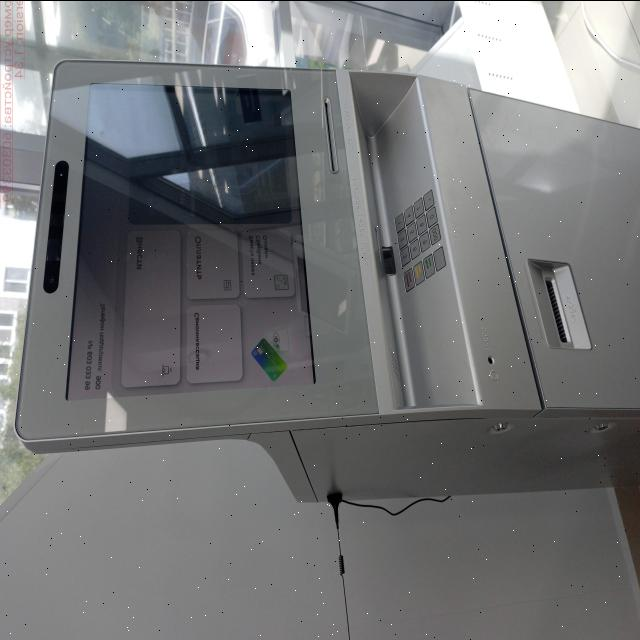bank: (15, 51, 640, 514)
